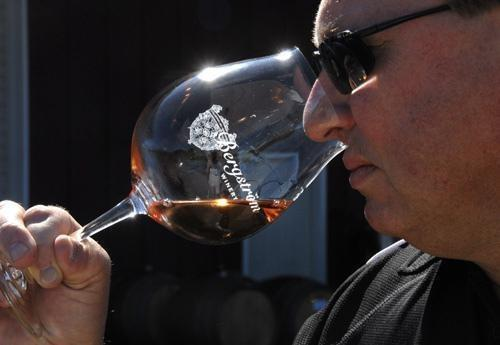glass-wine: (0, 42, 345, 341)
